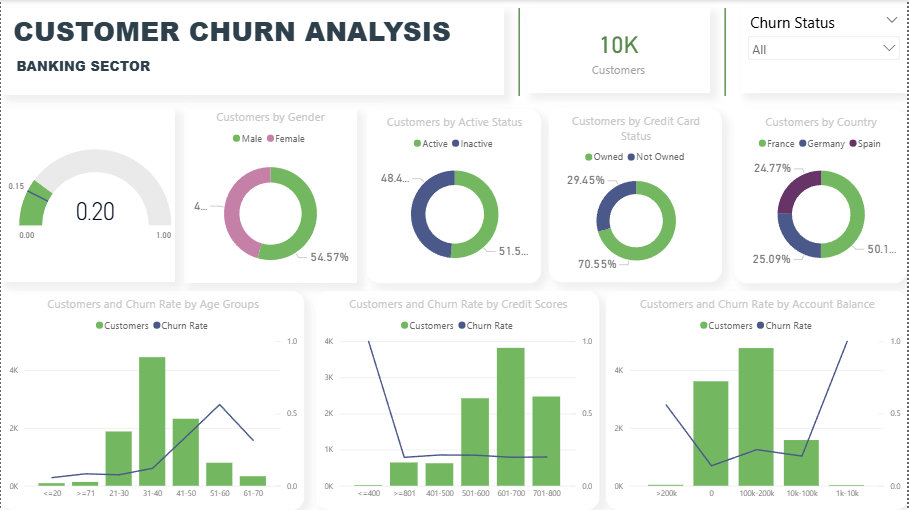

The dashboard page shown, as its layout file describes it:
{"tool":"powerbi","page":{"name":"Churn Analysis","canvas":[1280,720],"ordinal":0},"visuals":[{"type":"shape","box":[0,11.5,1280.2,126.7],"z":0},{"type":"card","fields":{"Values":["Customer Data.Customers"]},"box":[742.9,11.4,258.6,120],"z":1000},{"type":"donutChart","fields":{"Category":["Customer Data.Gender"],"Y":["Customer Data.Customers"]},"box":[258.4,153.9,244.2,245.6],"z":2000},{"type":"donutChart","fields":{"Category":["Customer Data.Active Status"],"Y":["Customer Data.Customers"]},"box":[516.7,153.9,245.6,245.6],"z":3000},{"type":"donutChart","fields":{"Category":["Customer Data.Credit Card Status"],"Y":["Customer Data.Customers"]},"box":[773.6,152.5,244.2,245.6],"z":4000},{"type":"donutChart","fields":{"Y":["Customer Data.Customers"],"Category":["Customer Data.Country"]},"box":[1034.8,153.9,244.2,245.6],"z":5000},{"type":"lineStackedColumnComboChart","fields":{"Category":["Credit Score Groups.Credit Scores"],"Y":["Customer Data.Customers"],"Y2":["Customer Data.Churn Rate"]},"box":[444.2,410.5,400,309.3],"z":6000},{"type":"lineStackedColumnComboChart","fields":{"Category":["Age Groups.Age Groups"],"Y":["Customer Data.Customers"],"Y2":["Customer Data.Churn Rate"]},"box":[0,410.5,427.9,309.3],"z":7000},{"type":"lineStackedColumnComboChart","fields":{"Category":["Acount Balance Groups.Acount Balance"],"Y":["Customer Data.Customers"],"Y2":["Customer Data.Churn Rate"]},"box":[854.4,410.5,425.6,309.3],"z":8000},{"type":"slicer","fields":{"Values":["Customer Data.Churn Status"]},"box":[1044.3,11.4,234.3,120],"z":9000},{"type":"gauge","fields":{"Y":["Customer Data.Churn Rate"],"MinValue":["Min(Customer Data.Min Churn Rate)"],"MaxValue":["Max(Customer Data.Max Churn Rate)"],"TargetValue":["Min(Customer Data.Target Churn Rate)"]},"box":[0,153.9,245.6,244.2],"z":10000},{"type":"textbox","box":[0,11.4,710,122.9],"z":11000},{"type":"shape","box":[1001.4,11.4,42.9,124.3],"z":12000},{"type":"shape","box":[710,11.4,42.9,124.3],"z":13000},{"type":"textbox","box":[17.1,74.3,337.1,44.3],"z":14000}]}

Visuals, with their boxes in screenshot pixels (x1, y1, x2, y2), scaled from the page's 1280x720 canvas onto the 909x510 screenshot:
shape: pyautogui.locateOnScreen(0, 8, 908, 98)
card - Customer Data.Customers: pyautogui.locateOnScreen(528, 8, 711, 93)
donutChart - Customer Data.Gender x Customer Data.Customers: pyautogui.locateOnScreen(184, 109, 357, 283)
donutChart - Customer Data.Active Status x Customer Data.Customers: pyautogui.locateOnScreen(367, 109, 541, 283)
donutChart - Customer Data.Credit Card Status x Customer Data.Customers: pyautogui.locateOnScreen(549, 108, 723, 282)
donutChart - Customer Data.Customers x Customer Data.Country: pyautogui.locateOnScreen(735, 109, 908, 283)
lineStackedColumnComboChart - Credit Score Groups.Credit Scores x Customer Data.Customers: pyautogui.locateOnScreen(315, 291, 600, 509)
lineStackedColumnComboChart - Age Groups.Age Groups x Customer Data.Customers: pyautogui.locateOnScreen(0, 291, 304, 509)
lineStackedColumnComboChart - Acount Balance Groups.Acount Balance x Customer Data.Customers: pyautogui.locateOnScreen(607, 291, 908, 509)
slicer - Customer Data.Churn Status: pyautogui.locateOnScreen(742, 8, 908, 93)
gauge - Customer Data.Churn Rate x Min(Customer Data.Min Churn Rate): pyautogui.locateOnScreen(0, 109, 174, 282)
textbox: pyautogui.locateOnScreen(0, 8, 504, 95)
shape: pyautogui.locateOnScreen(711, 8, 742, 96)
shape: pyautogui.locateOnScreen(504, 8, 535, 96)
textbox: pyautogui.locateOnScreen(12, 53, 252, 84)
